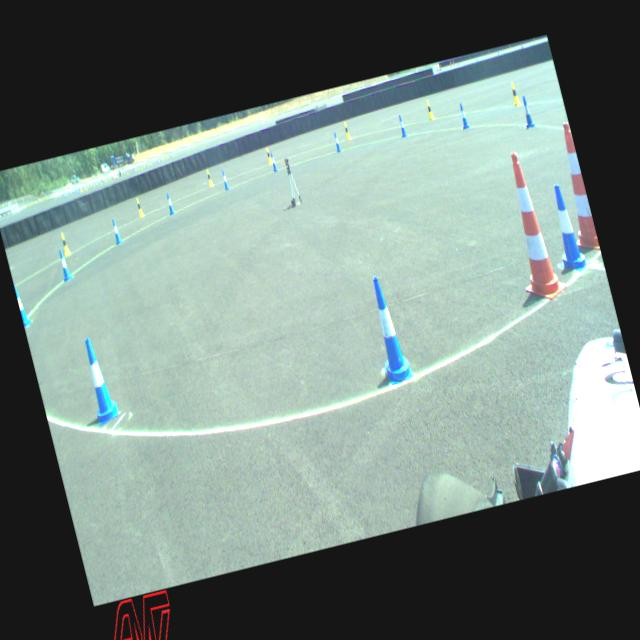blue_cone: (362, 274, 414, 385), (541, 181, 589, 272), (78, 334, 120, 424), (14, 284, 31, 326), (518, 94, 535, 128), (56, 248, 72, 281), (110, 217, 123, 244), (456, 102, 468, 128), (164, 192, 175, 214), (396, 114, 407, 136), (220, 168, 230, 190), (269, 152, 278, 172), (332, 131, 341, 151)
large_orange_cone: (493, 148, 568, 304), (547, 122, 600, 253)
yellow_cone: (508, 81, 520, 105), (59, 232, 71, 254), (424, 100, 434, 120), (135, 196, 144, 216), (204, 168, 213, 186), (342, 122, 350, 138), (264, 147, 272, 163)
